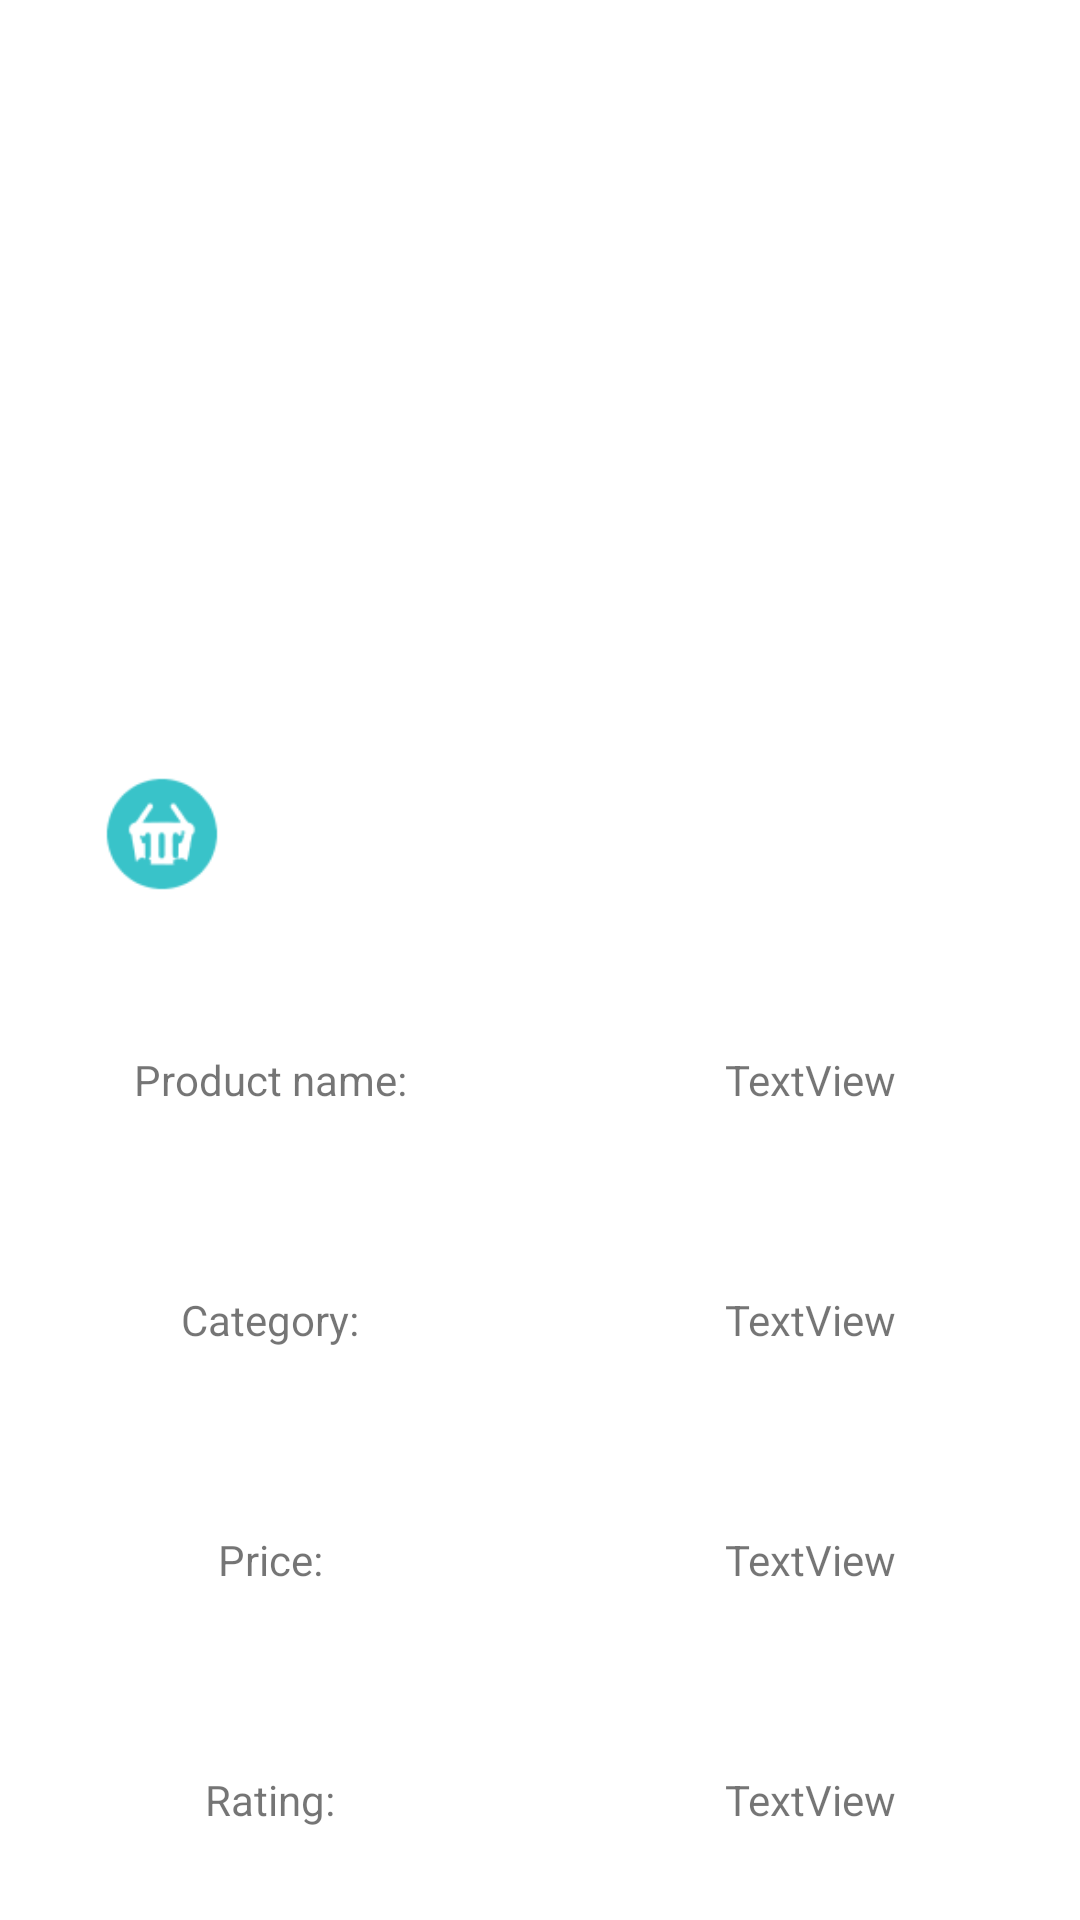

Locate icon controls on the screen. Image size 1080px×1920px, boxes as [x1=x1, y1=y1, x2=x2, y2=y2].
buy product: [x1=106, y1=778, x2=218, y2=890]
